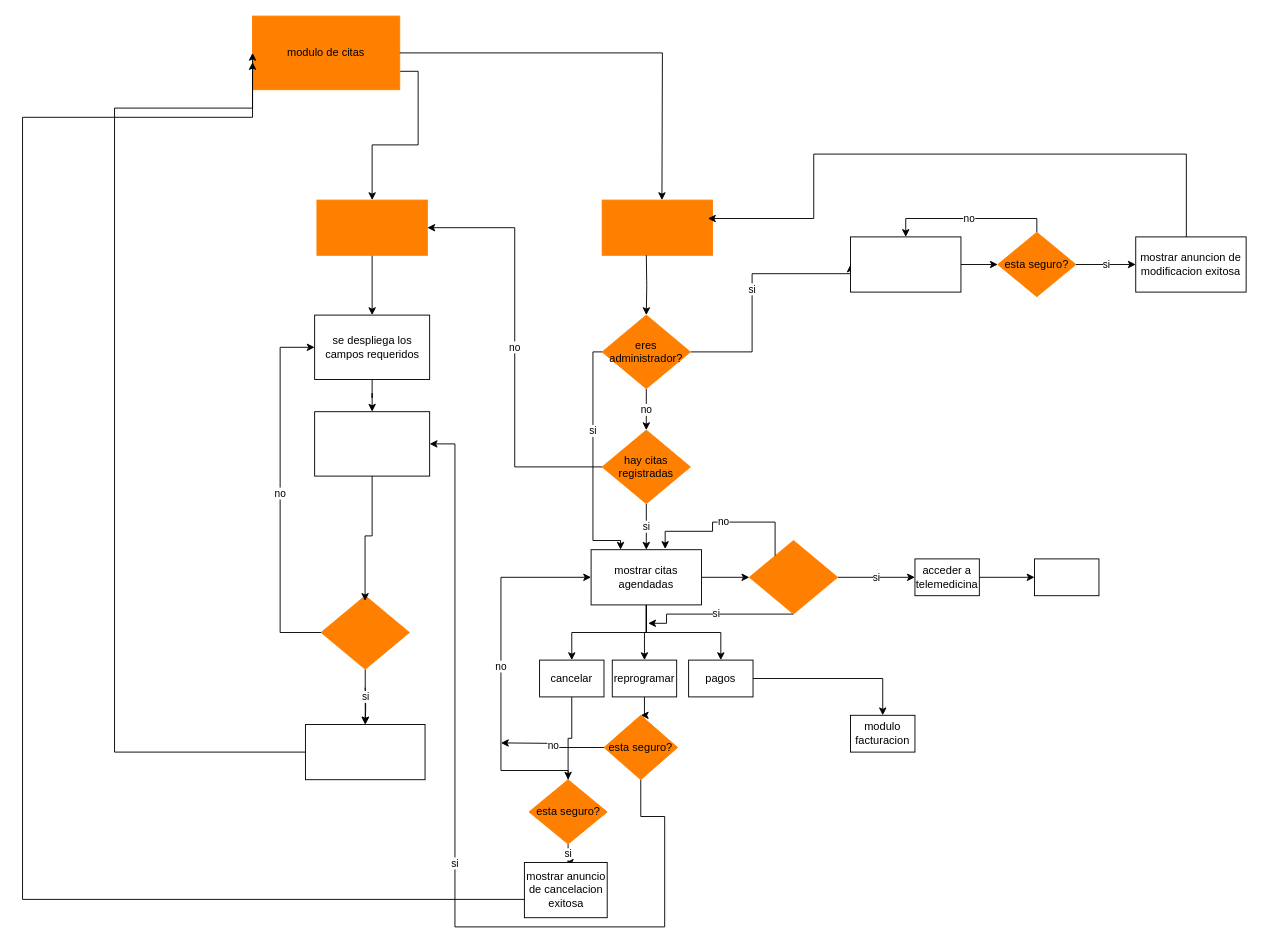
The diagram is 1262 pixels wide and 950 high, and some of its shapes have lost their labels. The box of each missing label's shape, as (x1, y1, x2, y2) in pixels:
agendar cita: (316, 199, 427, 255)
consultar citas: (601, 199, 713, 255)
el usuario confirma los datos?: (320, 595, 409, 669)
es telemedicina?: (748, 540, 838, 614)
modificar horario: (850, 236, 961, 292)
Modulo telemedicina: (1034, 558, 1099, 596)
mostrar disponibilidad: (314, 411, 430, 476)
mostrar un anuncio que confirme que la cita se agendo con exito: (305, 724, 425, 780)
